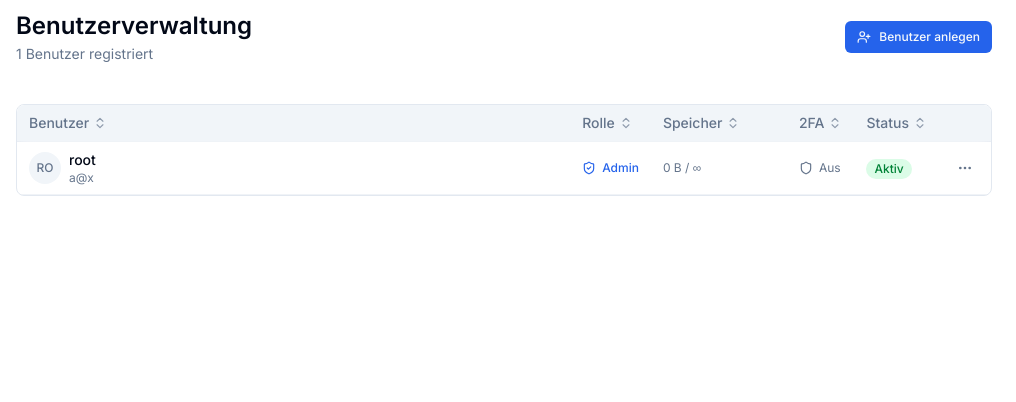
Test case: AdminPage — Rolle (via Aktionen-Menü) › Demote-Eintrag bei eigenem User ist deaktiviert
This screenshot has width=1016, height=402.
Click the button named "Aktionen": [965, 168] box x1=951 y1=154 x2=979 y2=182
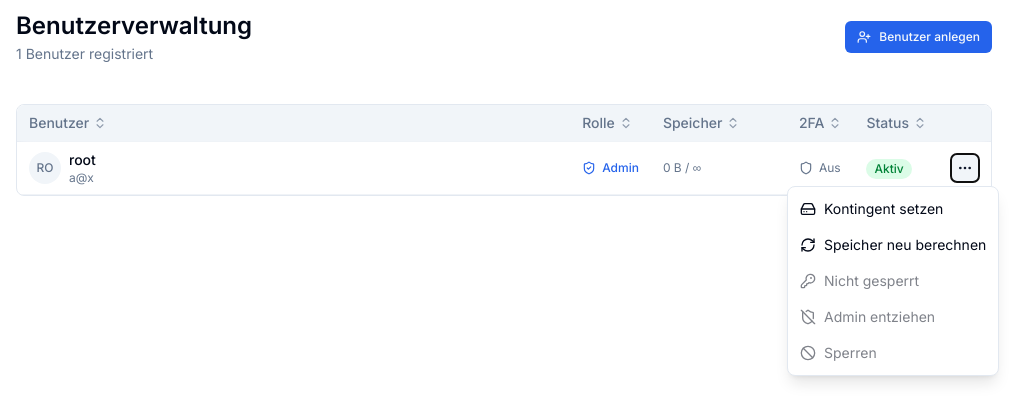
Now the menu item "Admin entziehen" is disabled, box x1=788 y1=299 x2=998 y2=335
